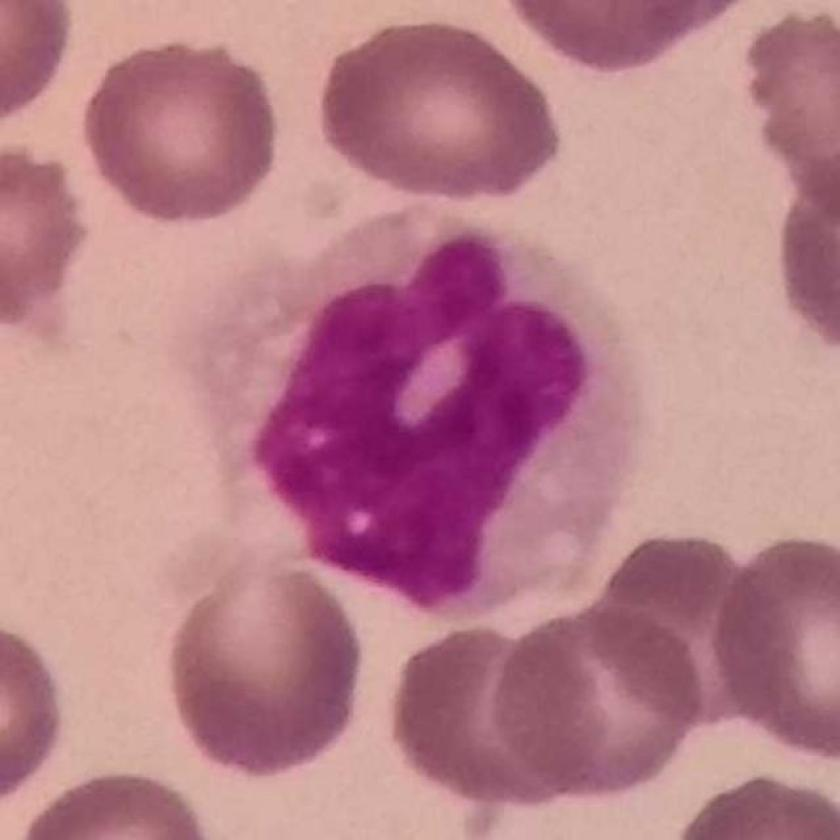monocyte: (187, 211, 668, 617)
